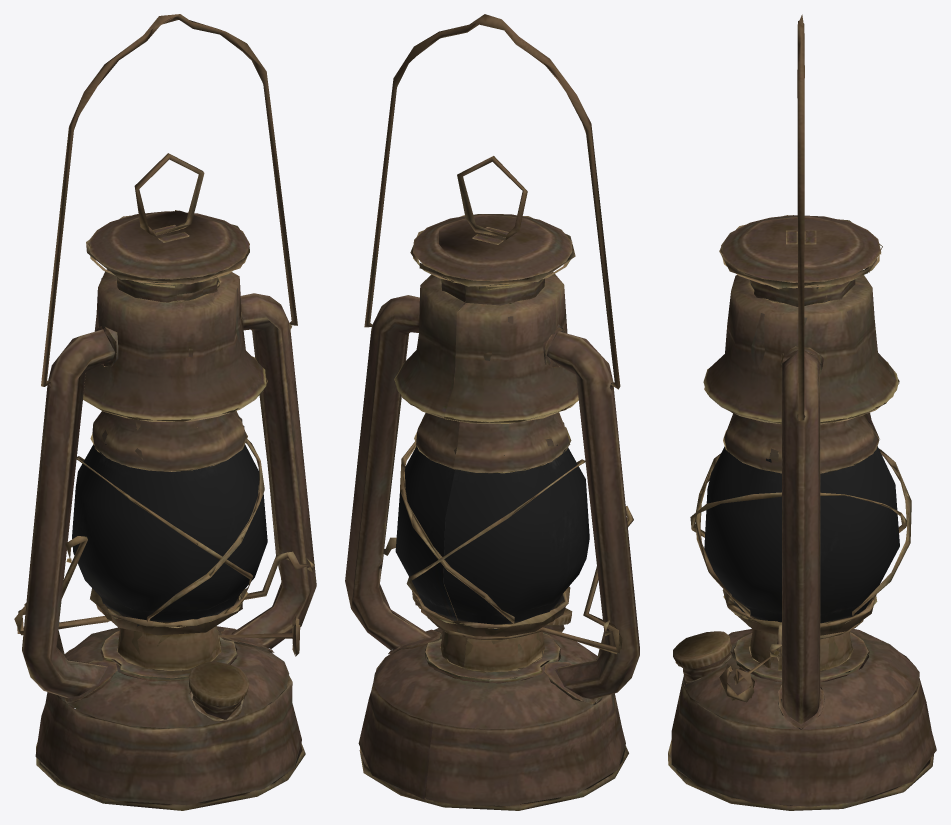
File: Lantern_01.glb
The picture shows the model from 3 angles, left to right: view 1: azimuth 30°, elevation 25°; view 2: azimuth 150°, elevation 25°; view 3: azimuth 270°, elevation 25°; orthographic projection.
Parts seen in each view (by area): view 1: Lantern_01.001; view 2: Lantern_01.001; view 3: Lantern_01.001.
Part boxes in pixels (left/top/right/bottom): Lantern_01.001: left=14, top=14, right=316, bottom=810; Lantern_01.001: left=345, top=14, right=639, bottom=810; Lantern_01.001: left=668, top=14, right=936, bottom=810.
Size of the model in its own units: 0.1222 by 0.294 by 0.0973.
2 materials, 2 textured.
